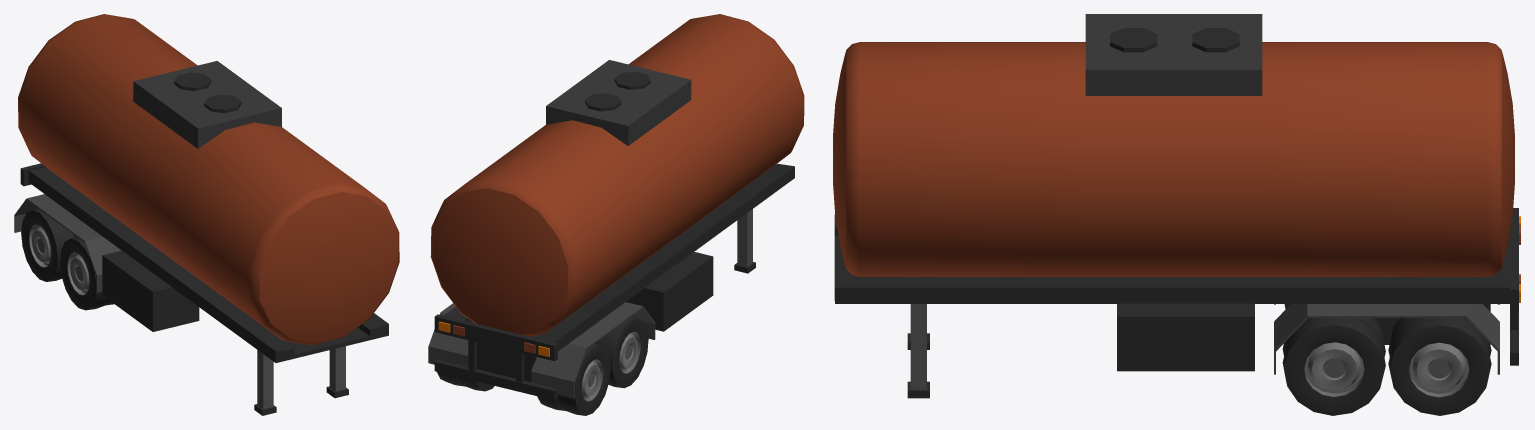
File: SM_IndustrialProps_Truck_02.fbx
3 renders of one model, left to right at view 1: azimuth 30°, elevation 25°; view 2: azimuth 150°, elevation 25°; view 3: azimuth 270°, elevation 25°, orthographic. The views are drawn at different scales.
Visible parts, largest first — view 1: SM_IndustrialProps_Truck_02; view 2: SM_IndustrialProps_Truck_02; view 3: SM_IndustrialProps_Truck_02.
Part boxes in pixels (box(x1,y1,x2,y2)): SM_IndustrialProps_Truck_02: box(14, 14, 399, 415); SM_IndustrialProps_Truck_02: box(428, 14, 804, 415); SM_IndustrialProps_Truck_02: box(833, 14, 1520, 415).
Size of the model in its own units: 2.15 by 3.28 by 6.17.
